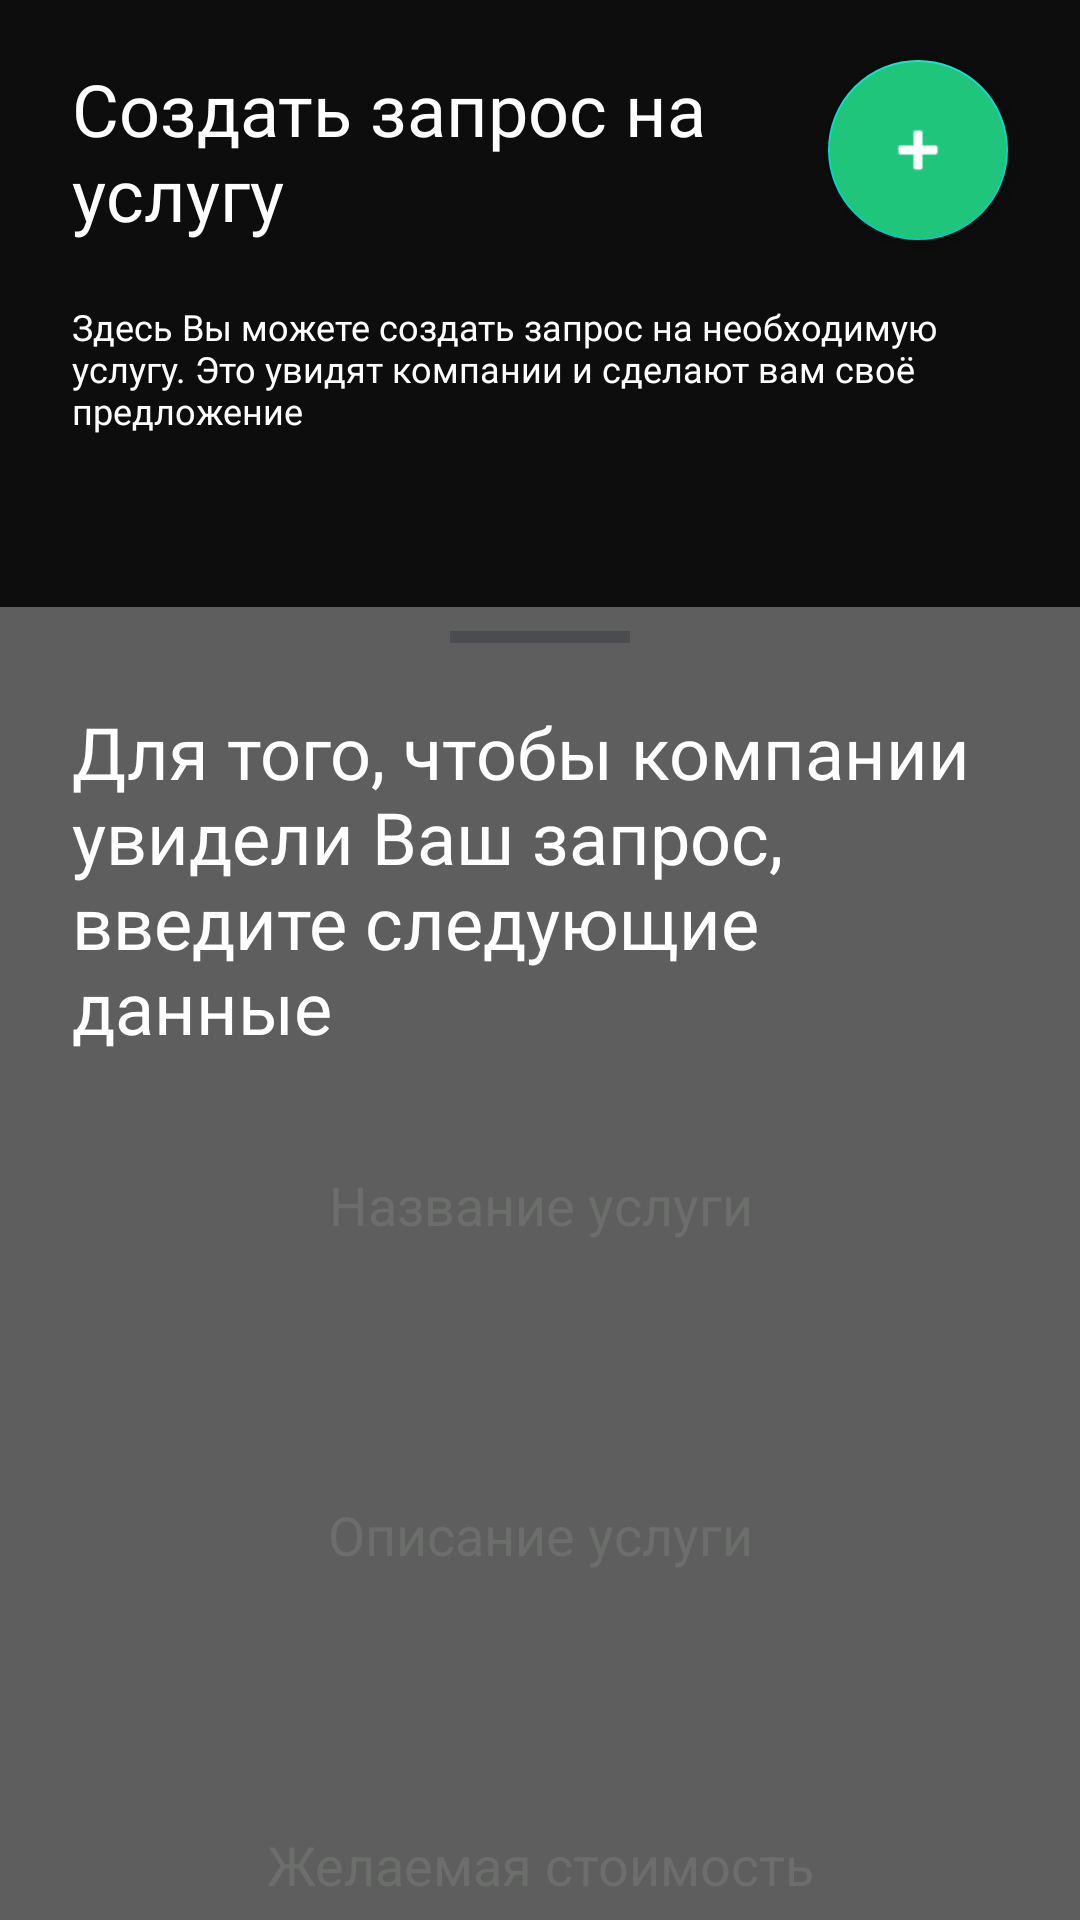

Named icons in this screenshot (1080x1920) and their bounding boxes, (x1, y1, x2, y2):
Добавить запрос: (828, 60, 1008, 240)
